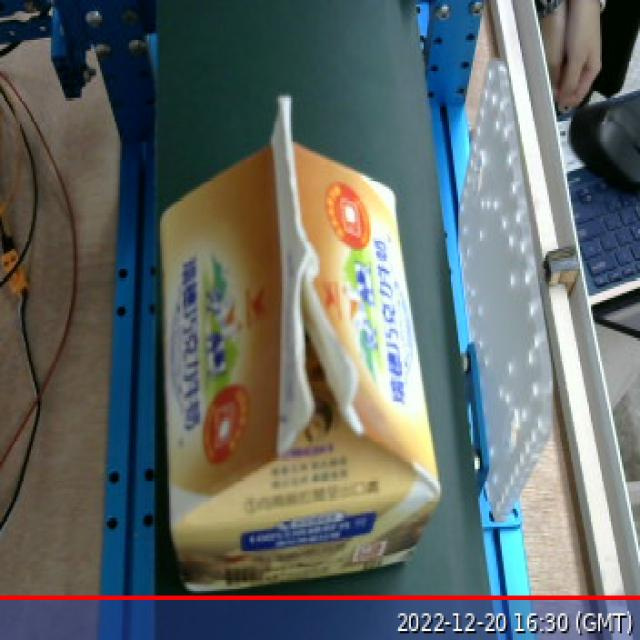non_white_jug: (148, 77, 453, 593)
